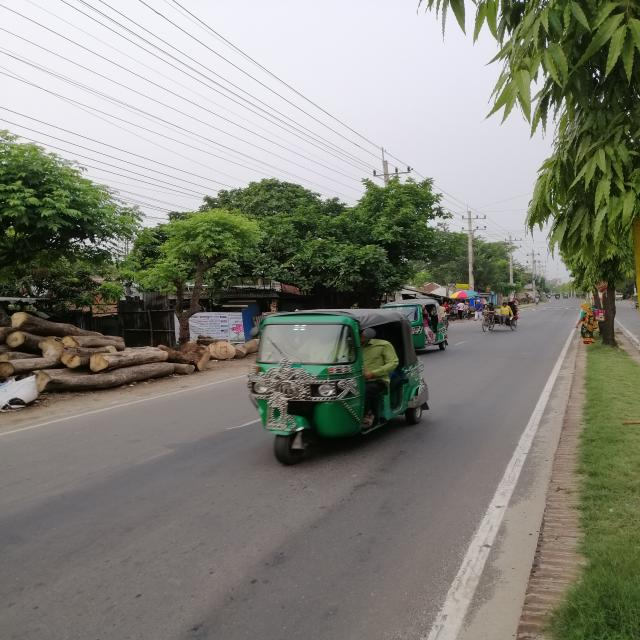CNG: (250, 307, 428, 467)
